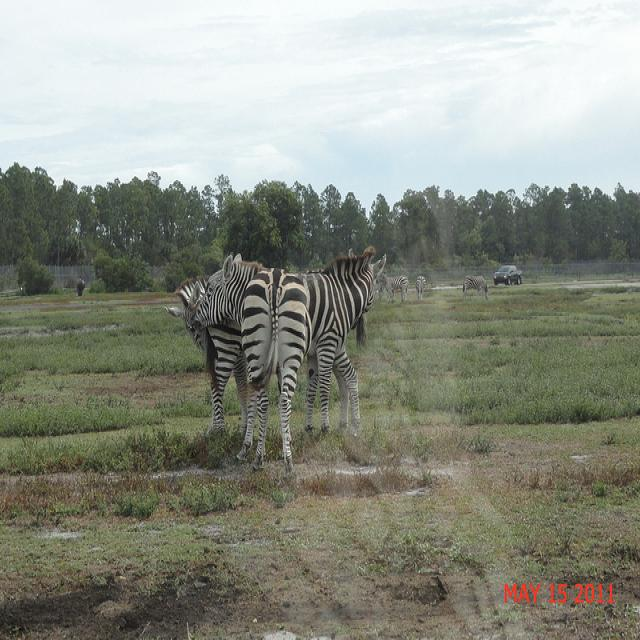Vehicle: (493, 265, 523, 287)
